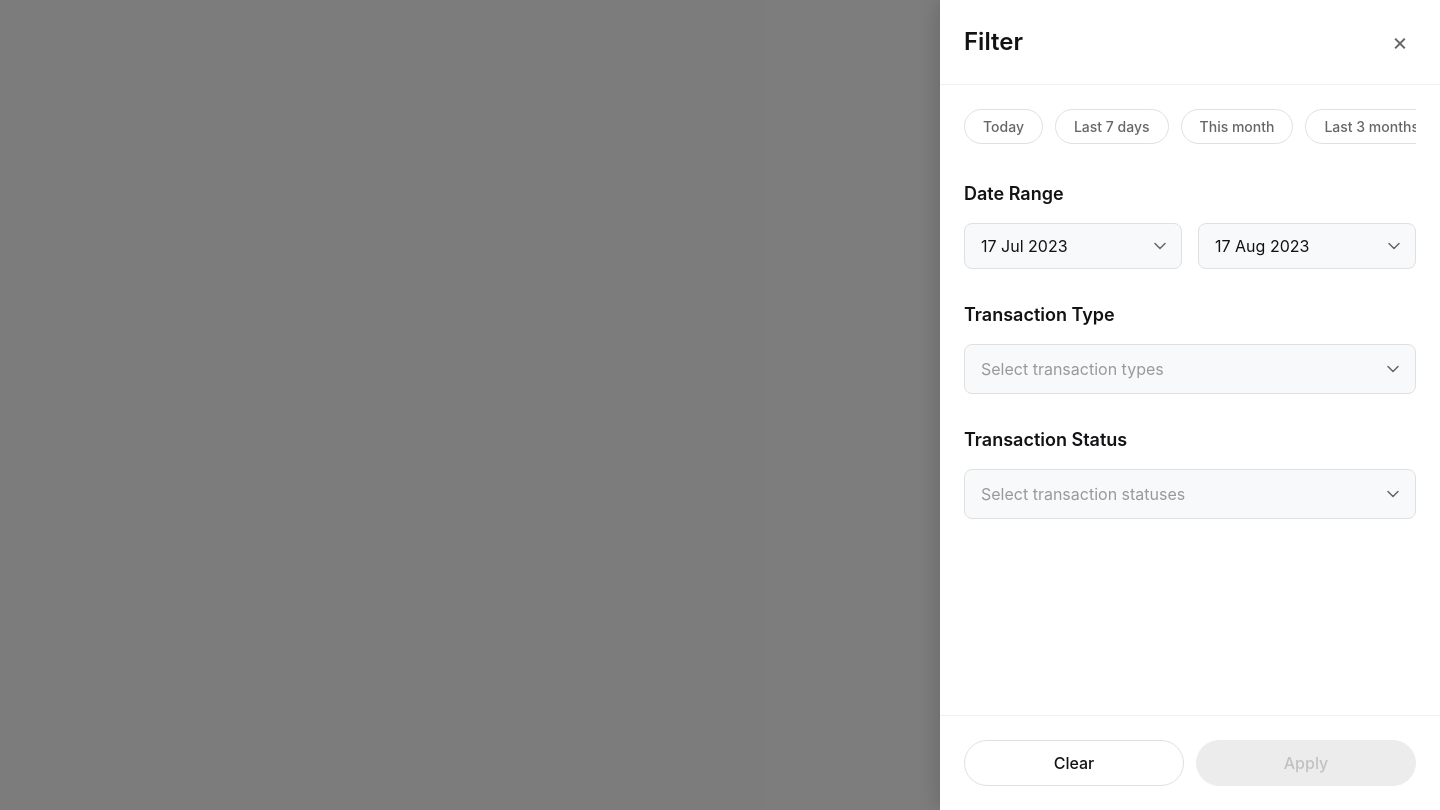
Scenario: FilterSidebar › Transaction type filtering › should open transaction type dropdown when clicked
The width and height of the screenshot is (1440, 810).
Click the text "Select transaction types" at (1072, 369), box [981, 359, 1164, 379]
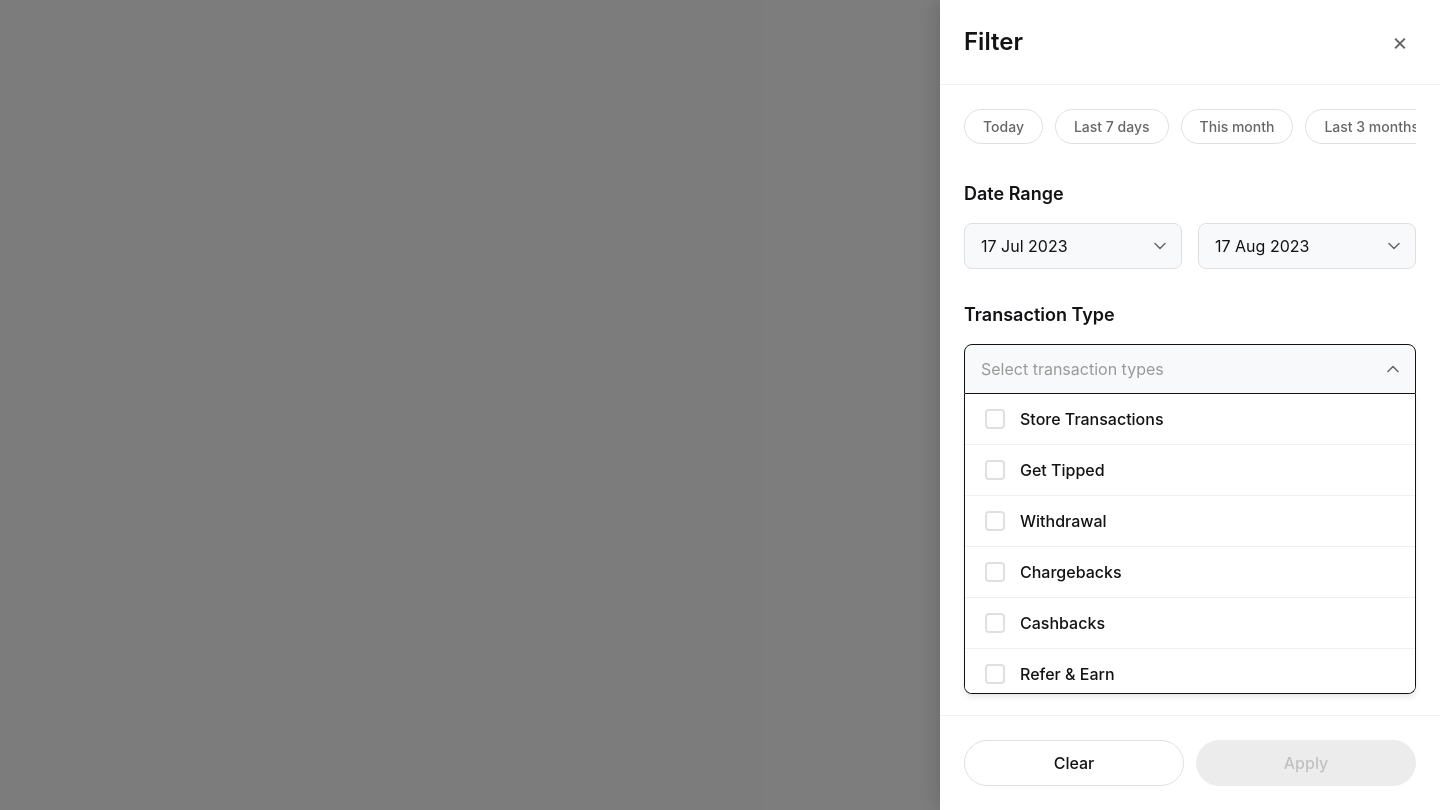
Check: the text "Store Transactions" is shown, box [1020, 407, 1164, 431]
Check: the text "Get Tipped" is shown, box [1020, 458, 1105, 482]
Check: the text "Withdrawal" is shown, box [1020, 509, 1107, 533]
